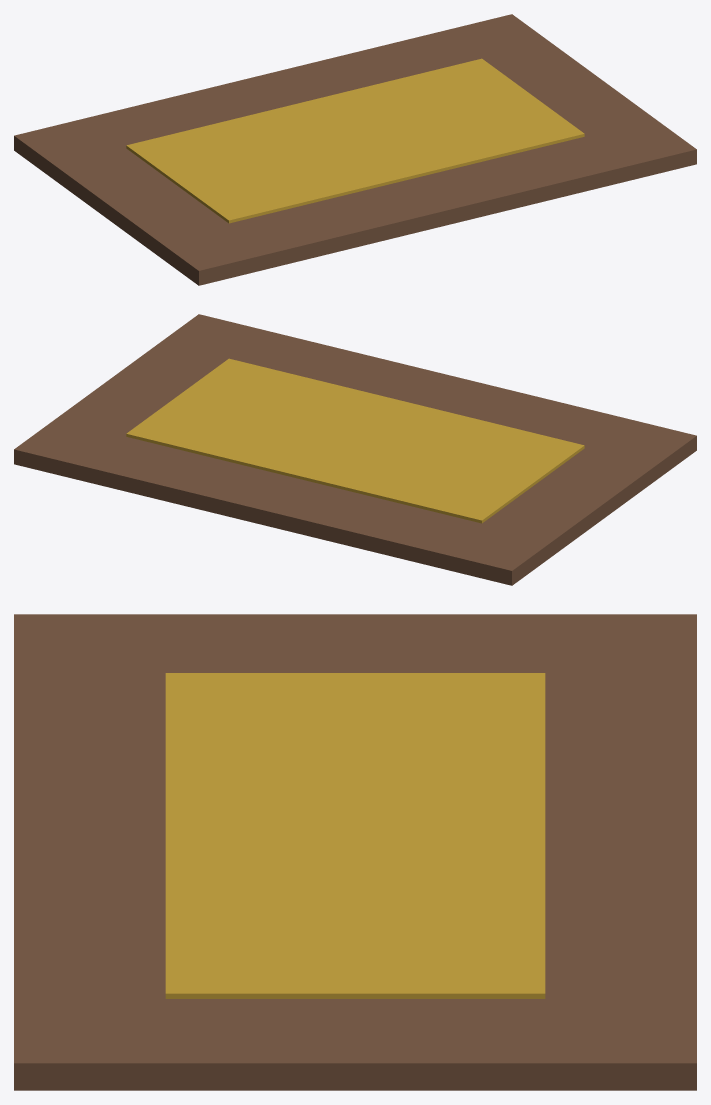
The model's file is GD_Doormat_01.glb.
3 renders of one model, top to bottom at view 1: azimuth 30°, elevation 25°; view 2: azimuth 150°, elevation 25°; view 3: azimuth 270°, elevation 25°, orthographic. The views are drawn at different scales.
Visible parts, largest first — view 1: GD_Doormat_01; view 2: GD_Doormat_01; view 3: GD_Doormat_01.
Part boxes in pixels (x1,y1,x2,y2): GD_Doormat_01: (14, 14, 696, 285); GD_Doormat_01: (14, 314, 696, 585); GD_Doormat_01: (14, 614, 696, 1090).
Bounding box in the file's own units: 0.7 × 0.024 × 0.45.
Materials: 1 (1 with a texture image).
